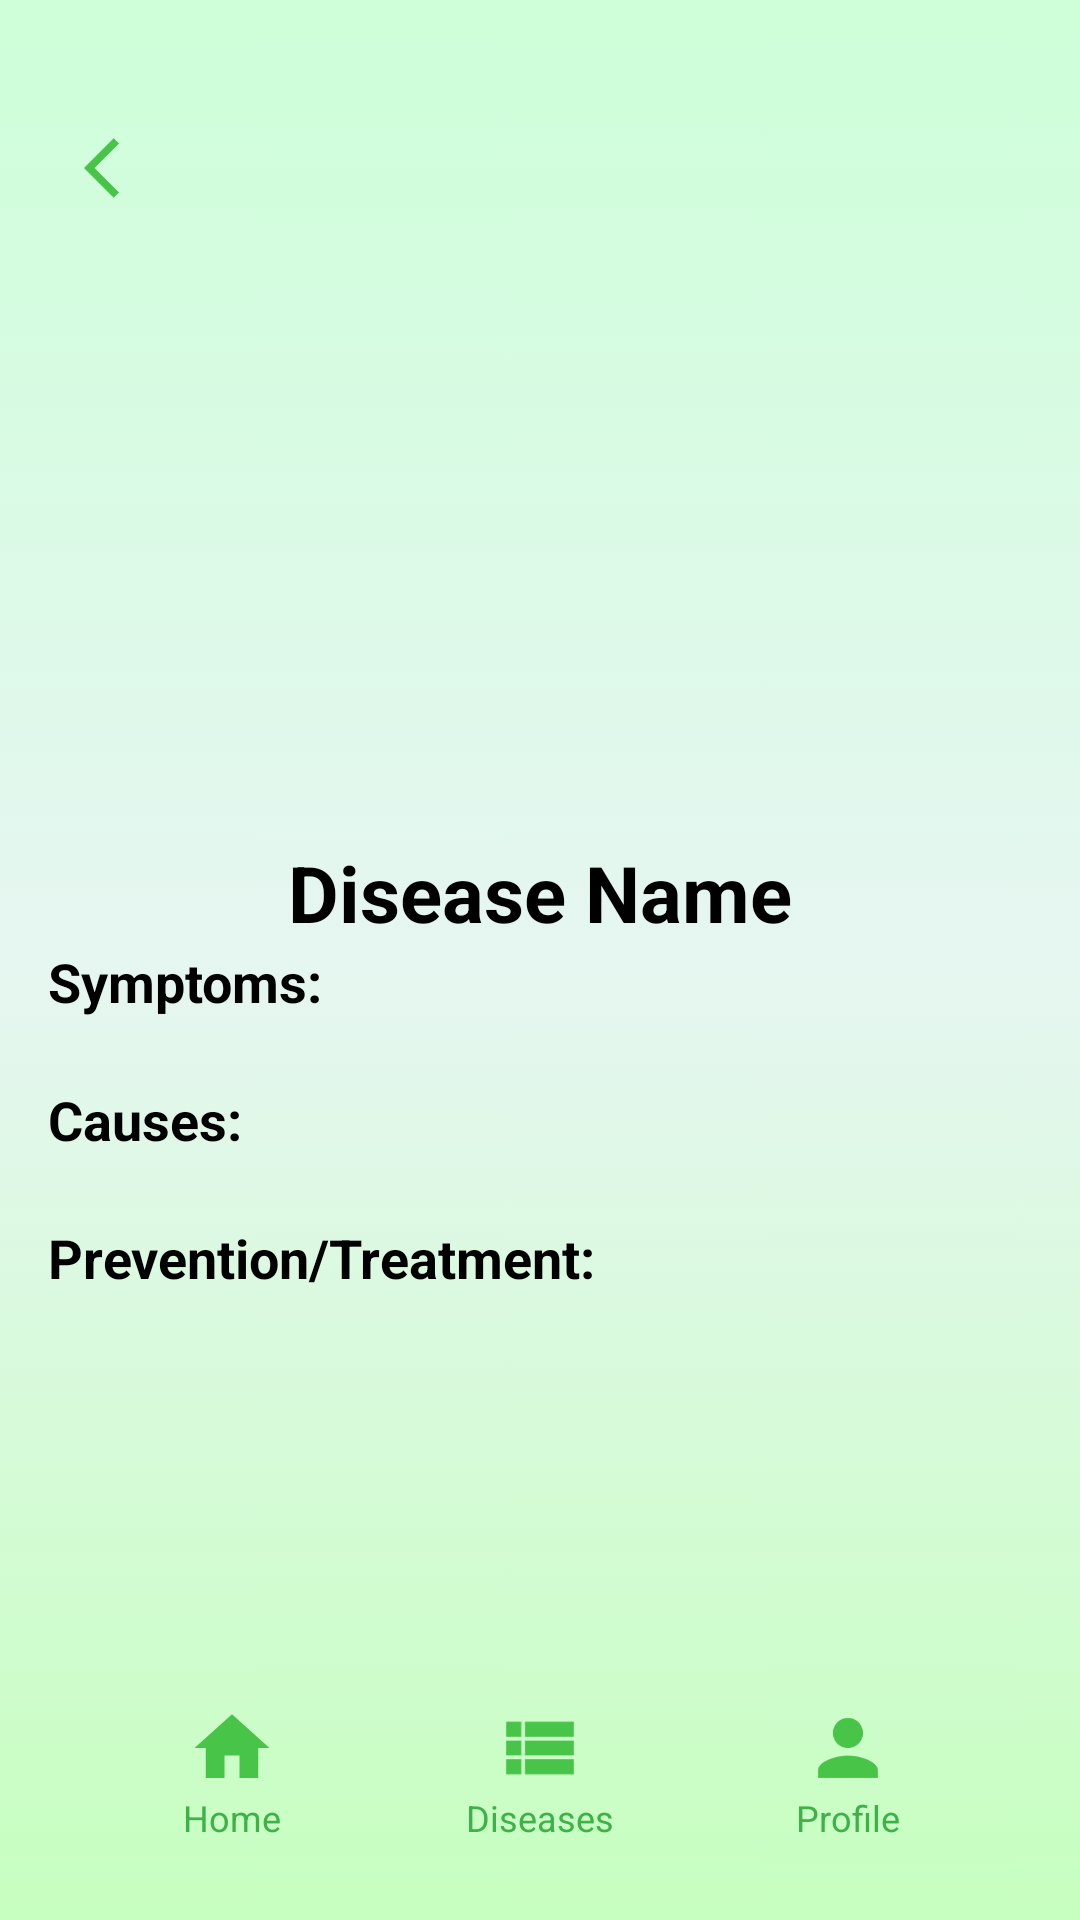

Locate icon controls on the screen. Image size 1080w x 1920h, boxes as (x1, y1, x2, y2).
Back: (84, 138, 119, 198)
person: (818, 1718, 878, 1778)
view list: (506, 1721, 574, 1775)
